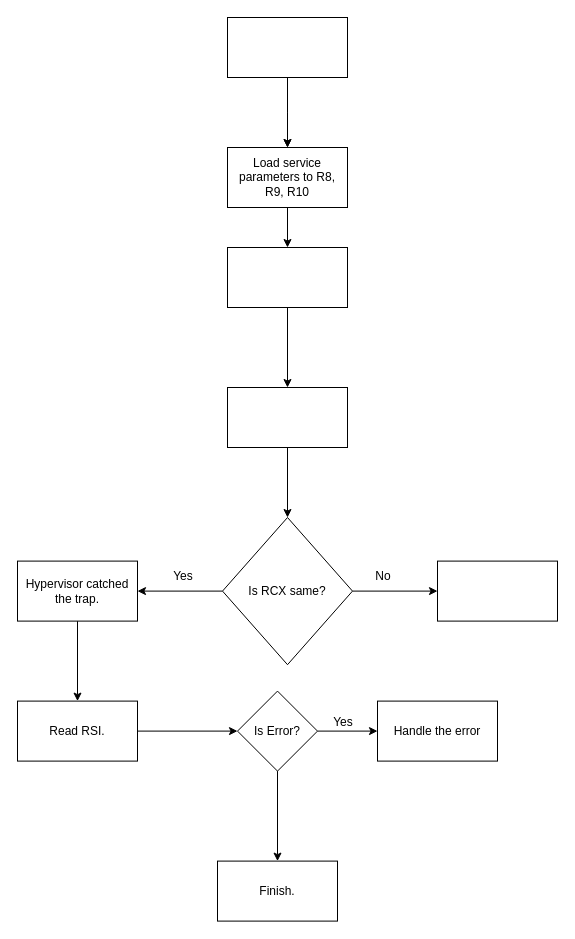
Some shapes in this 575 by 939 pixel diagram are drawn without their labels. The centre of each missing label's shape, as x and y in pixels:
"CPUID" goes at point (287, 417).
"Hypervisor is not loaded" goes at point (497, 590).
"Load service function to RSI" goes at point (287, 47).
"RCX = 0x2009" goes at point (287, 277).
